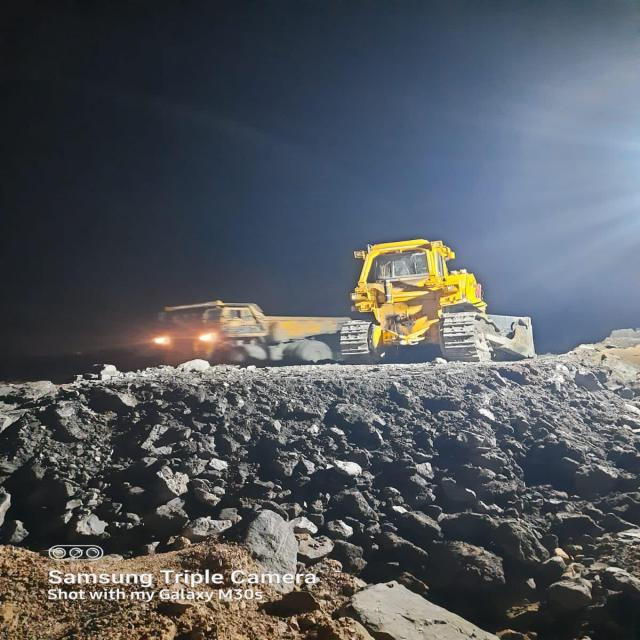buldozerpayloadergrader: (340, 235, 558, 365)
dump_truck: (145, 300, 354, 372)
